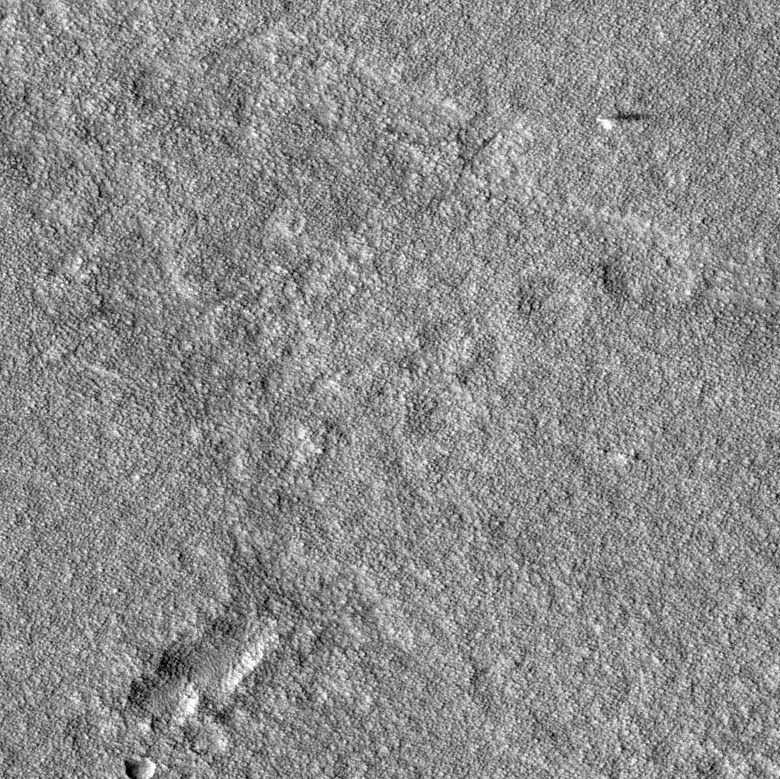dust_devil: (596, 112, 652, 130)
